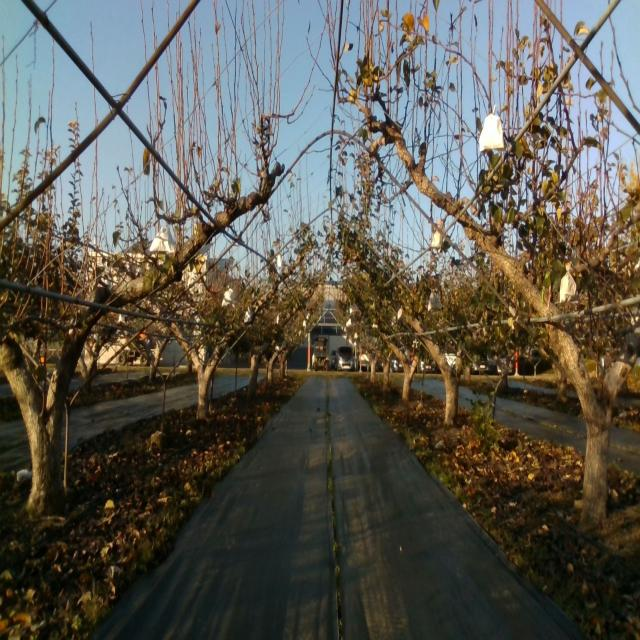pearbags: (478, 104, 507, 154), (148, 222, 177, 255), (560, 264, 577, 302), (221, 284, 235, 308), (428, 292, 440, 312)
